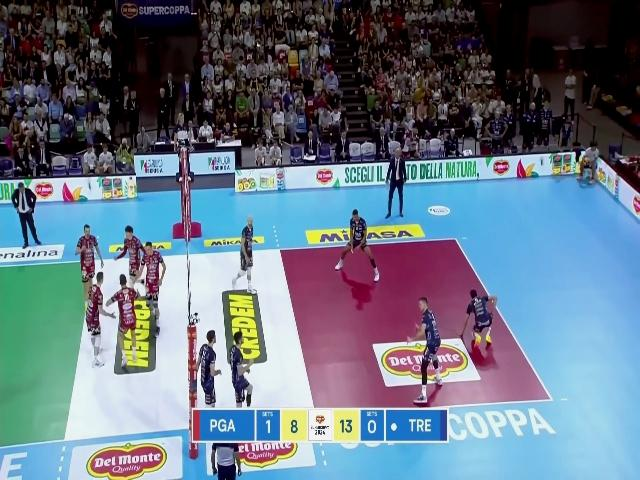volleyball court: (0, 237, 551, 450)
